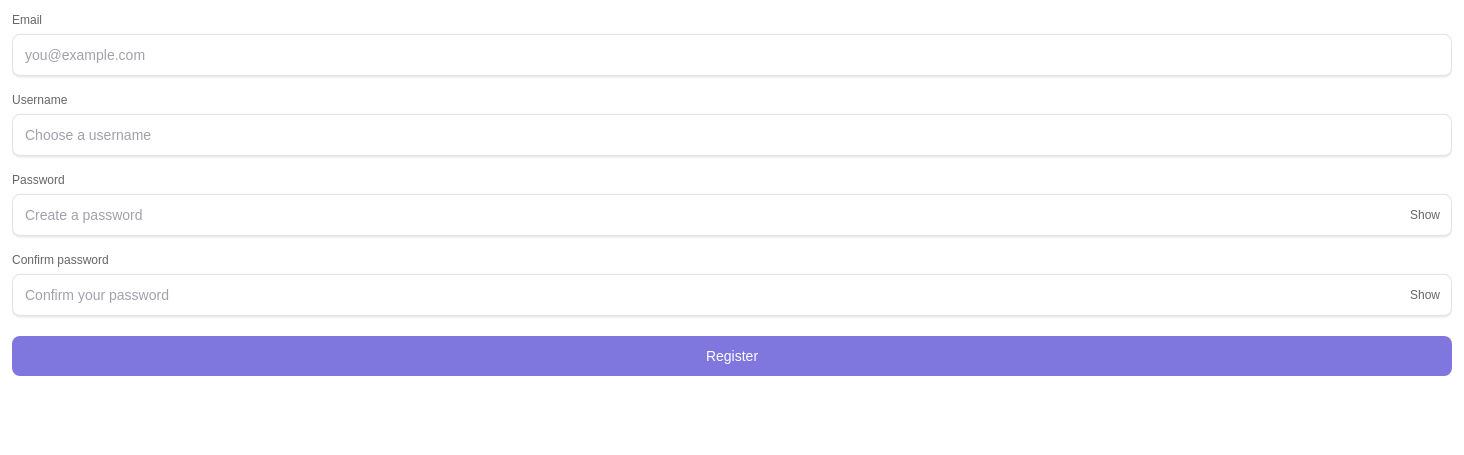
Test: RegisterForm › shows validation error when submitting empty form
This screenshot has width=1464, height=455.
Click the button "Register".
click(732, 356)  # box [12,336,1452,376]
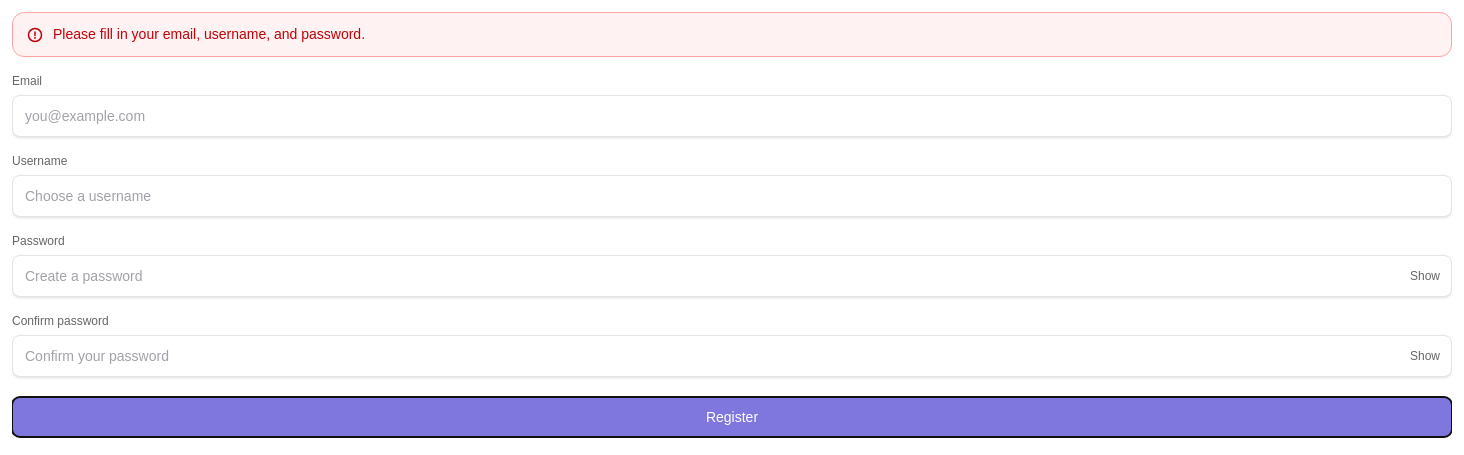
Now the text "Please fill in your email, username, and password." is shown, box [53,25,365,44]
